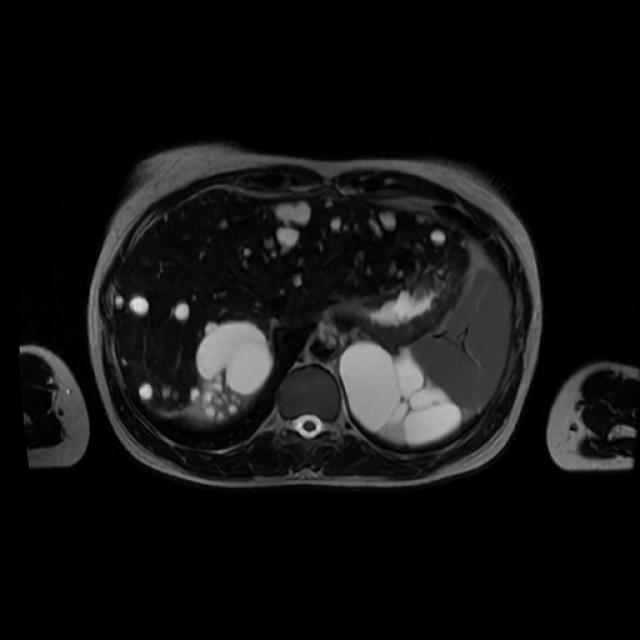sag: (197, 320, 272, 418)
sol: (342, 341, 460, 445)
